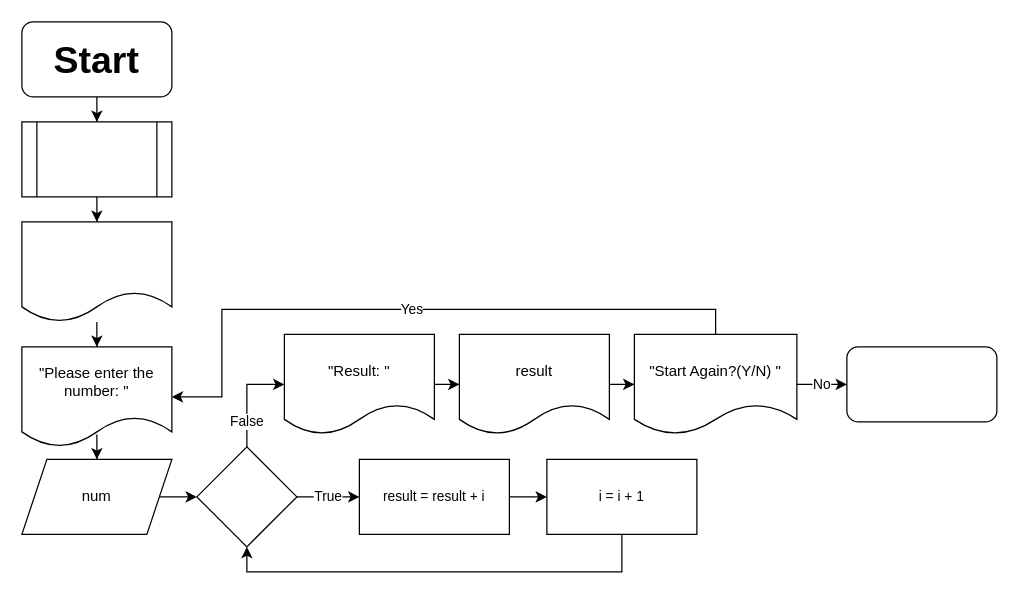
This 1019x604 diagram has some shape labels left out. The shapes that lost their labels are listed below. From the top down, each one's box as (x1, y1, x2, y2) in pixels, then its label:
(21, 121, 172, 197): i = 0
(21, 221, 172, 322): "Welcome!"
(846, 346, 997, 422): Finish
(196, 446, 297, 547): i <= num
